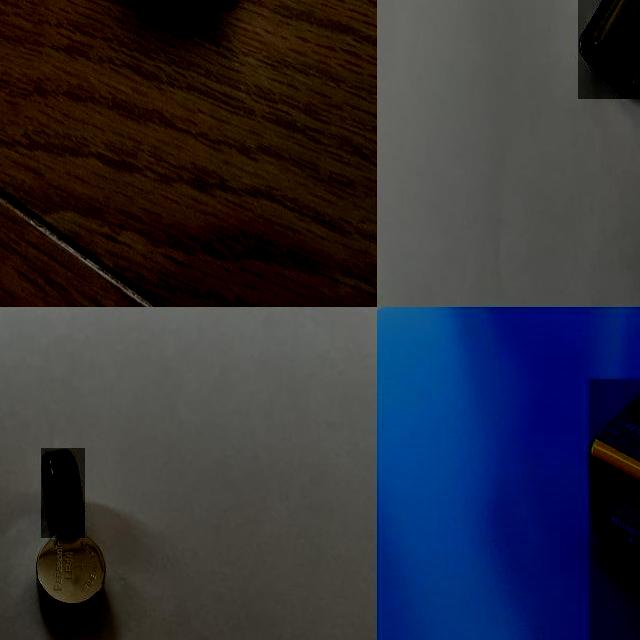9V: (578, 0, 640, 99)
